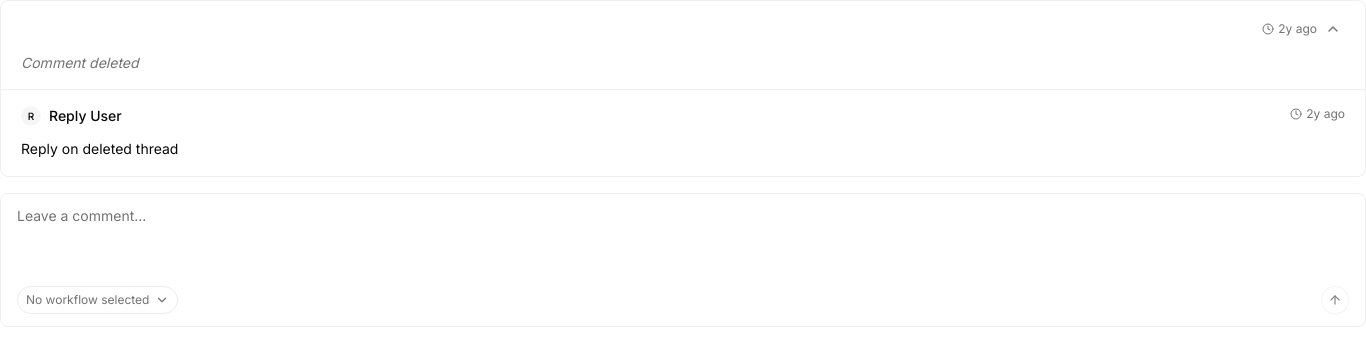
CommentSection › keeps deleted parent threads collapsible when replies exist
This screenshot has width=1366, height=344.
Expected: the text "Reply on deleted thread" is shown, x1=21 y1=140 x2=178 y2=157
What coordinates should you click on to do the following:
click the button named "Hide replies"
I would click on:
 (1333, 29)
Its box is x1=1321 y1=17 x2=1345 y2=41.
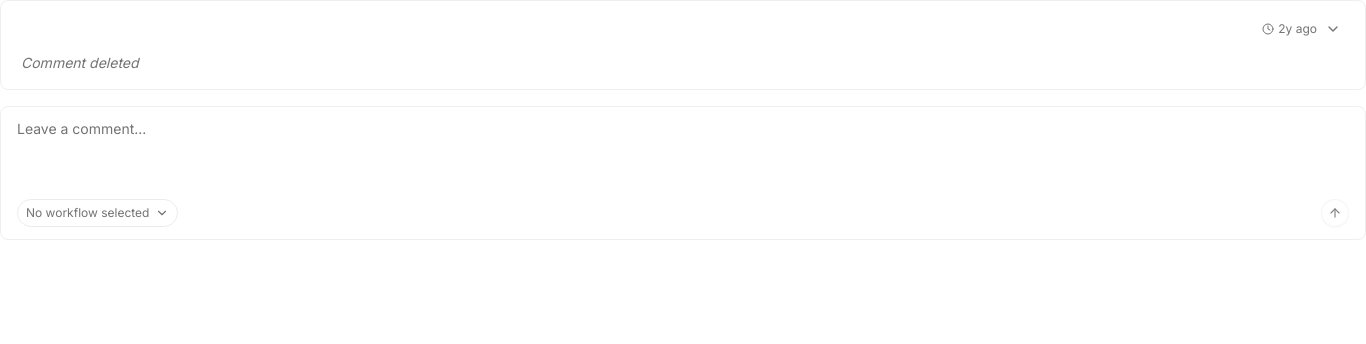
Now the text "Reply on deleted thread" is gone
